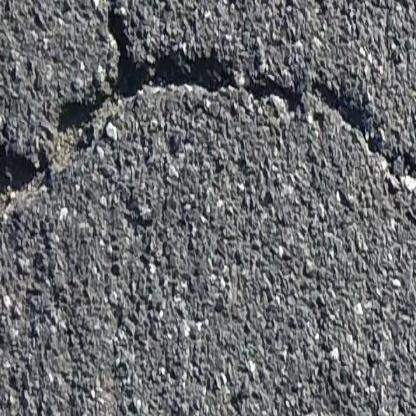Cracks: (0, 0, 416, 231)
